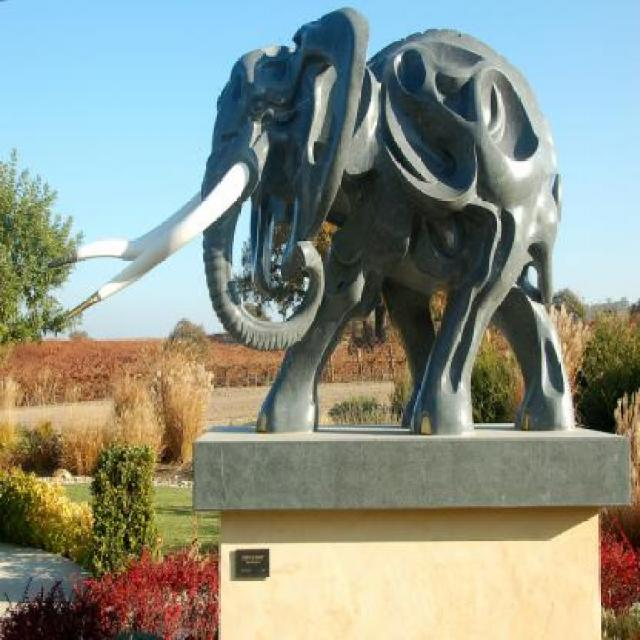Elephant: (47, 6, 576, 434)
